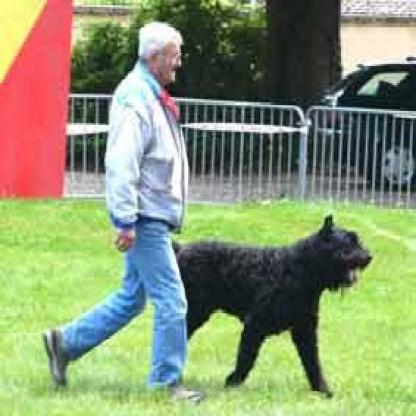Bouvier_des_Flandres: (165, 210, 372, 393)
